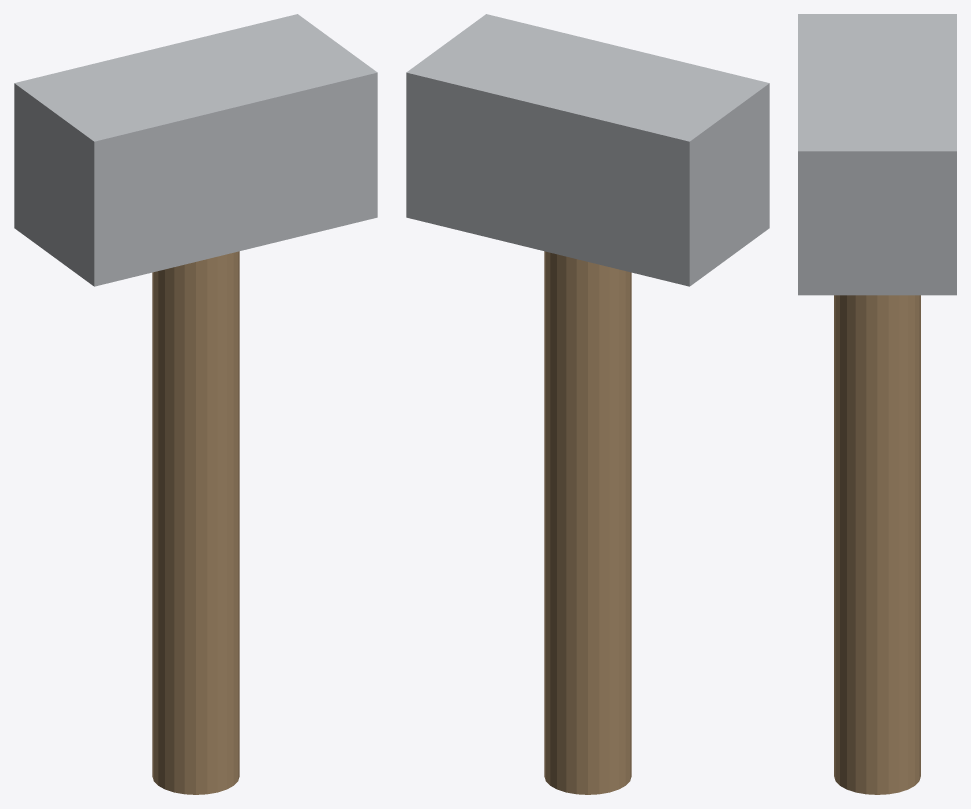
The model's file is hammer.glb.
The picture shows the model from 3 angles, left to right: view 1: azimuth 30°, elevation 25°; view 2: azimuth 150°, elevation 25°; view 3: azimuth 270°, elevation 25°; orthographic projection.
Visible parts, largest first — view 1: hammer_head, hammer_handle; view 2: hammer_head, hammer_handle; view 3: hammer_head, hammer_handle.
Part boxes in pixels (box(x1,y1,x2,y2)): hammer_head: box(14, 14, 377, 286); hammer_handle: box(152, 251, 239, 794); hammer_head: box(406, 14, 769, 286); hammer_handle: box(544, 251, 631, 794); hammer_head: box(798, 14, 956, 295); hammer_handle: box(834, 295, 920, 794).
Bounding box in the file's own units: 0.45 × 1.06 × 0.22.
